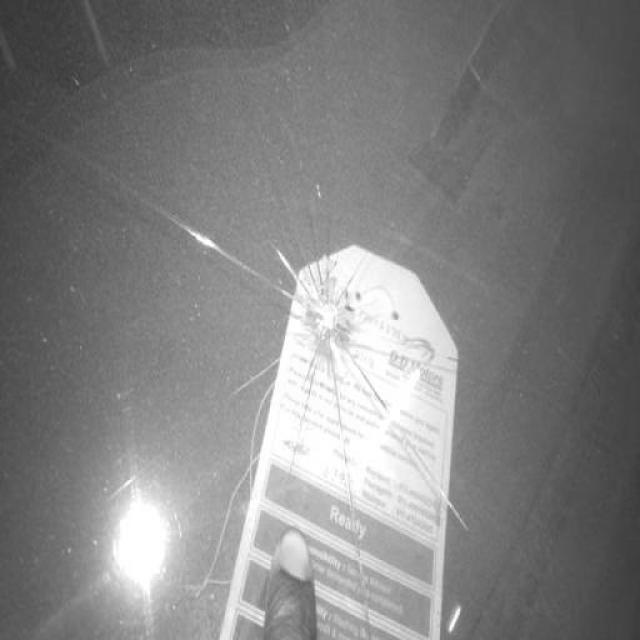car damage: (273, 217, 381, 379)
